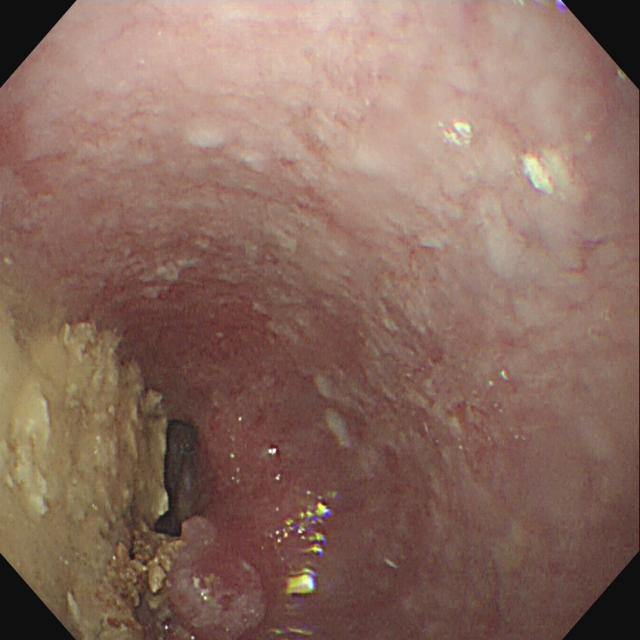B: (5, 287, 177, 639), (177, 514, 272, 635)
U: (275, 503, 331, 598)
